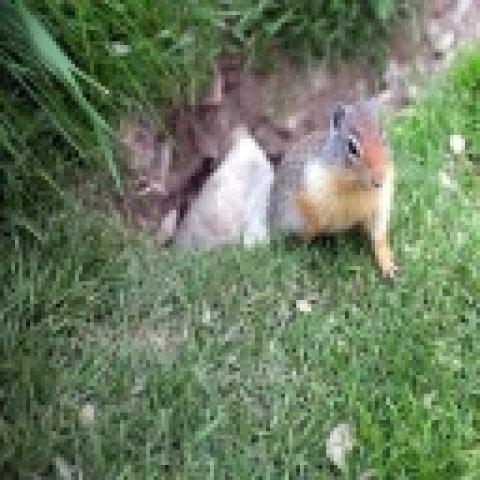small_animal: (270, 90, 401, 278)
